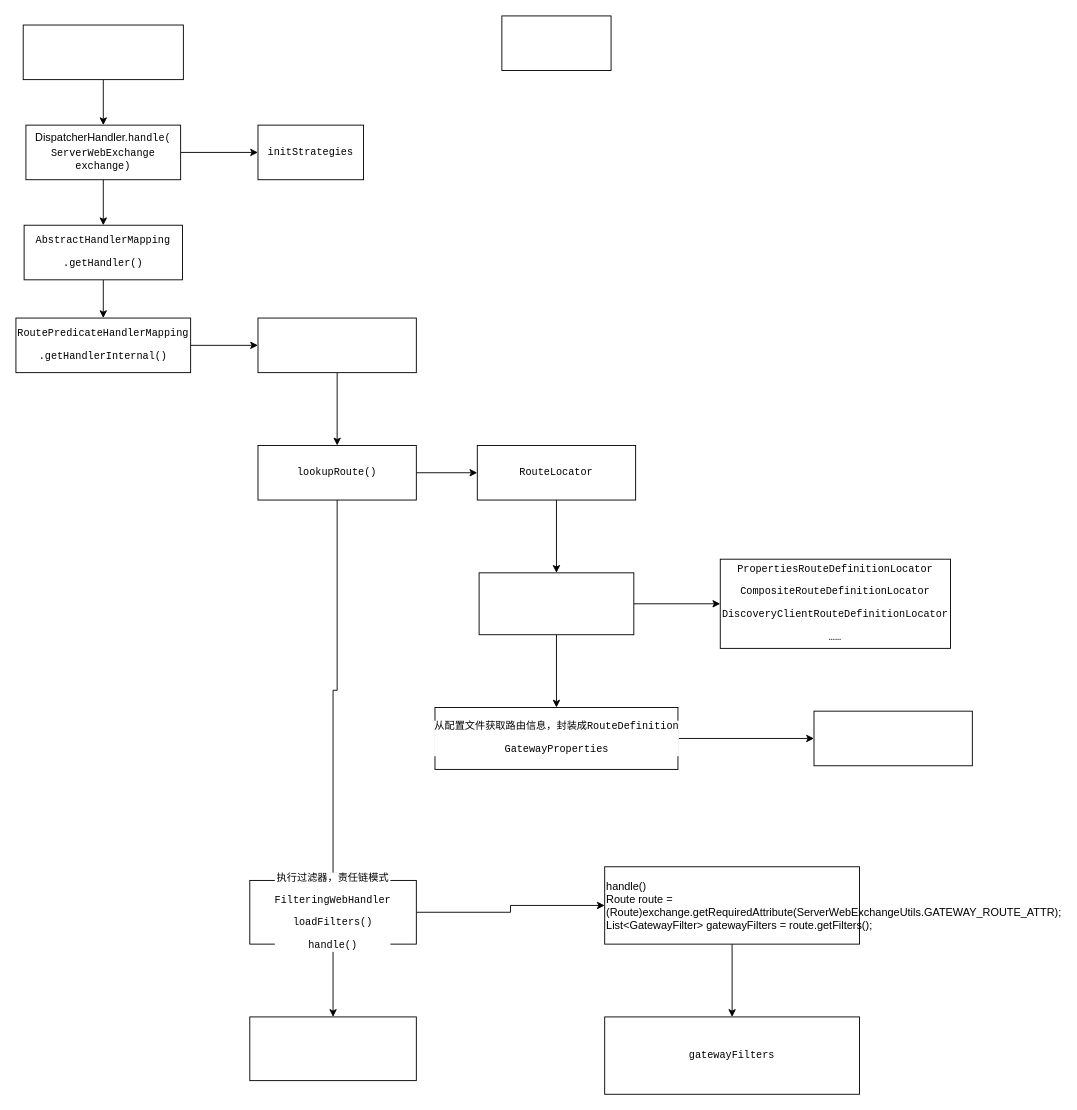
The diagram is 1077 pixels wide and 1110 high, and some of its shapes have lost their labels. The shapes that lost their labels are listed below. From the top down, each one's centre as x and y in pixels, then its label:
(x=102, y=52): HttpWebHandlerAdapter
(x=556, y=43): WebHandler
(x=336, y=345): getHandlerInternal()
(x=556, y=603): RouteDefinitionRouteLocator .getRoutes() .getRouteDefinitions
(x=892, y=738): spring.cloud.gateway
(x=332, y=1048): OrderedGatewayFilter
